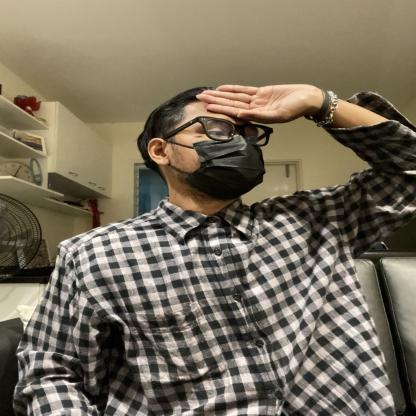Sick: (106, 54, 336, 201)
